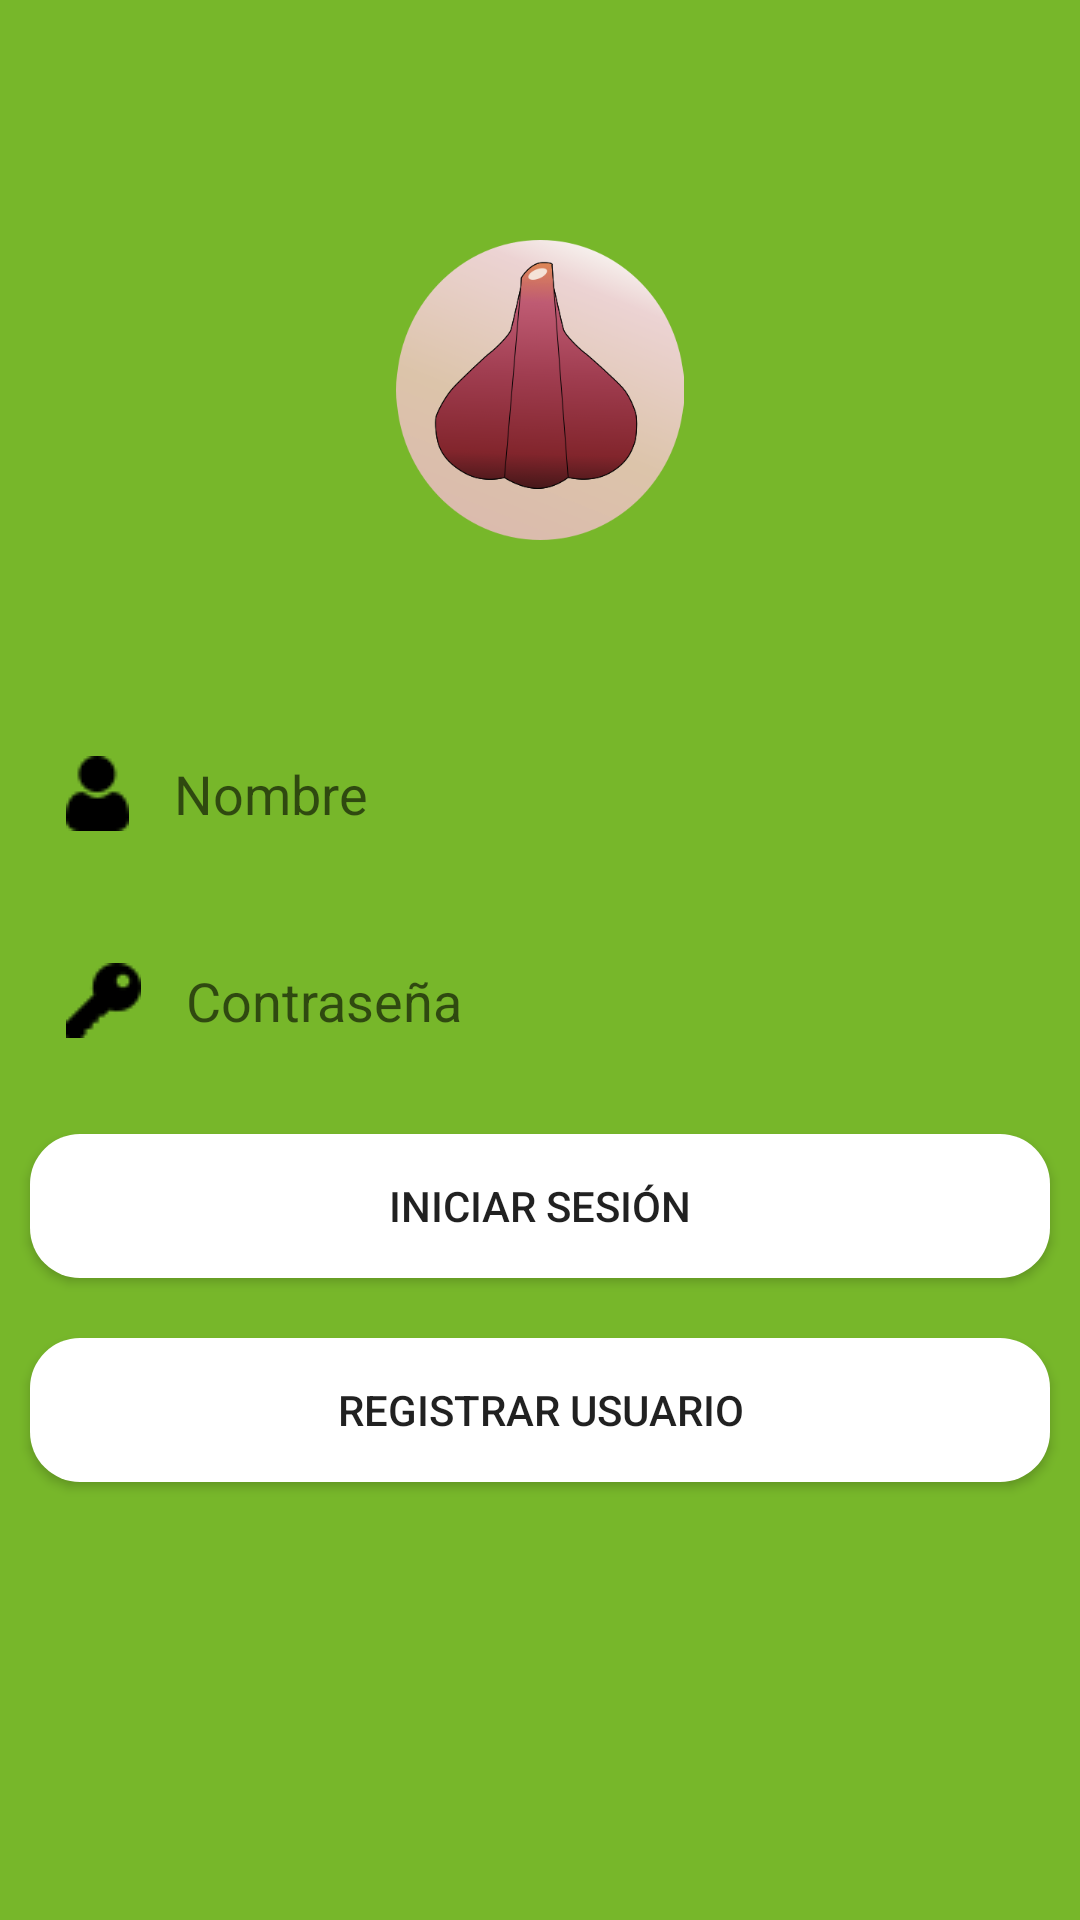

Screen size 1080px x 1920px. Icon name, then its box in pixels as (x1, y1, x2, y2):
garlic: (396, 240, 684, 540)
